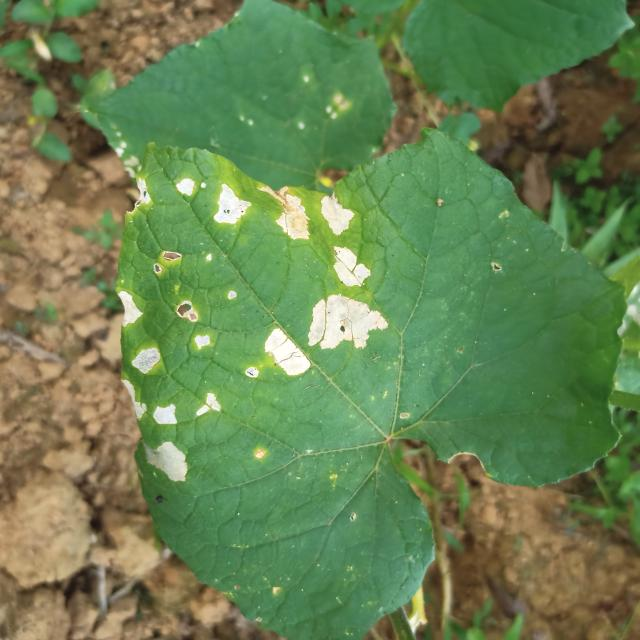disease_cucumber: (265, 295, 385, 375), (154, 394, 220, 482), (173, 176, 250, 224), (278, 192, 353, 239), (125, 342, 156, 421), (175, 300, 214, 350), (331, 243, 371, 286), (120, 290, 142, 328)
